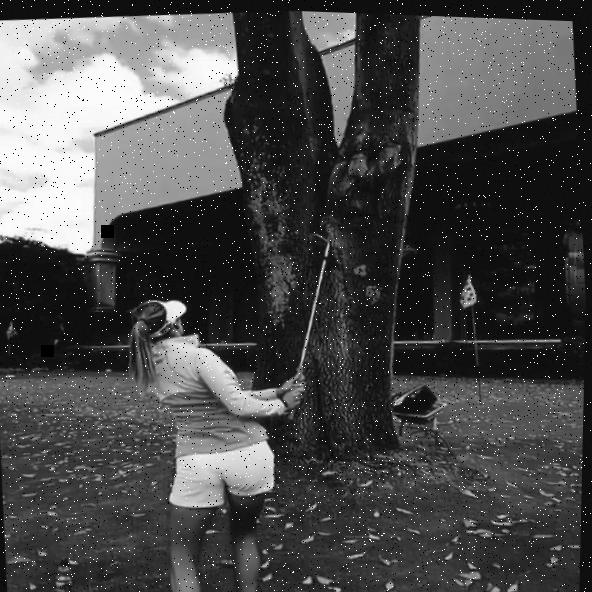ClubHead: (309, 229, 332, 244)
